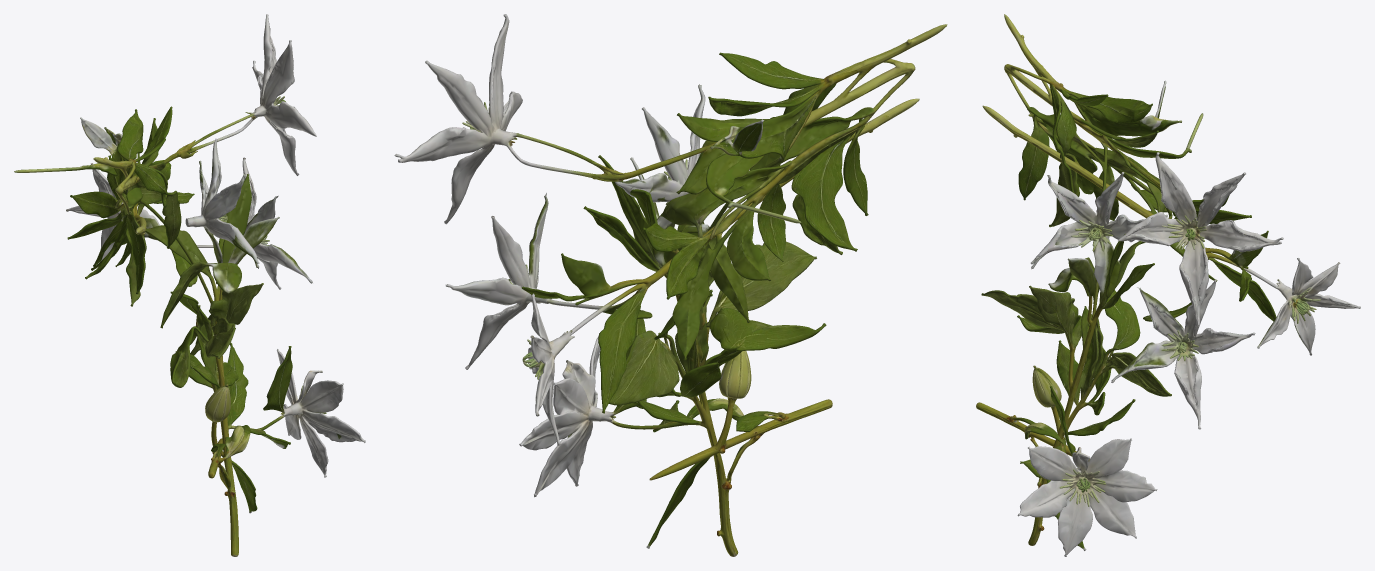
Rendered from elise-white-clematis.glb.
3 views of the same model, side by side, from view 1: azimuth 30°, elevation 25°; view 2: azimuth 150°, elevation 25°; view 3: azimuth 270°, elevation 25° (orthographic). The views are drawn at different scales.
Parts seen in each view (by area): view 1: tripo_part_22, tripo_part_15, tripo_part_32, tripo_part_4, tripo_part_5, tripo_part_34, tripo_part_1, tripo_part_38, tripo_part_19, tripo_part_8, tripo_part_21, tripo_part_12 (+8 smaller); view 2: tripo_part_22, tripo_part_32, tripo_part_15, tripo_part_4, tripo_part_23, tripo_part_13, tripo_part_5, tripo_part_37, tripo_part_38, tripo_part_34, tripo_part_1, tripo_part_14 (+11 smaller); view 3: tripo_part_22, tripo_part_15, tripo_part_32, tripo_part_38, tripo_part_4, tripo_part_23, tripo_part_16, tripo_part_25, tripo_part_21, tripo_part_31, tripo_part_2, tripo_part_1 (+8 smaller).
Boxes of the visible parts, x1,y1,x2,y2 form: tripo_part_22: (14,118,312,451); tripo_part_15: (250,349,365,477); tripo_part_32: (245,14,316,175); tripo_part_4: (170,283,263,387); tripo_part_5: (212,429,257,556); tripo_part_34: (70,155,122,218); tripo_part_1: (208,425,250,478); tripo_part_38: (66,163,159,267); tripo_part_19: (227,343,248,427); tripo_part_8: (263,346,292,411); tripo_part_21: (117,109,143,160); tripo_part_12: (185,206,251,256); tripo_part_22: (445,59,915,446); tripo_part_32: (394,14,530,224); tripo_part_15: (519,333,684,497); tripo_part_4: (698,221,826,351); tripo_part_23: (609,292,712,405); tripo_part_13: (791,140,846,248); tripo_part_5: (646,430,759,556); tripo_part_37: (598,293,643,413); tripo_part_38: (522,293,611,445); tripo_part_34: (642,223,708,299); tripo_part_1: (678,398,832,448); tripo_part_14: (719,52,824,89); tripo_part_22: (1004,64,1268,444); tripo_part_15: (1017,438,1157,556); tripo_part_32: (1118,152,1283,326); tripo_part_38: (1230,258,1360,355); tripo_part_4: (981,285,1089,353); tripo_part_23: (1105,289,1171,396); tripo_part_16: (1056,306,1109,395); tripo_part_25: (1071,80,1181,136); tripo_part_21: (1070,91,1152,123); tripo_part_31: (1174,352,1201,429); tripo_part_2: (1018,138,1049,200); tripo_part_1: (976,402,1066,447).
Size of the model in its own units: 0.7052 by 1 by 0.7669.
Materials: 39 (39 with a texture image).
